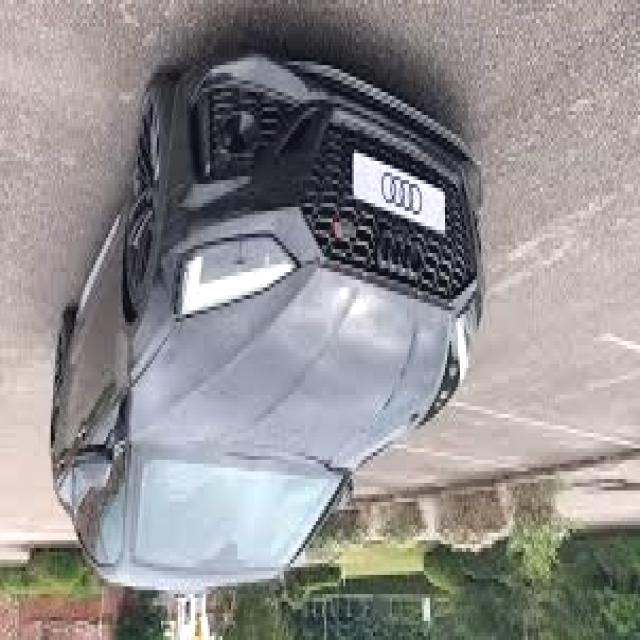black: (55, 67, 484, 584)
